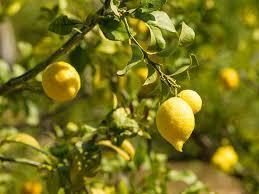lemon: (156, 97, 194, 152), (42, 61, 80, 101), (178, 90, 202, 114), (220, 68, 240, 88)
